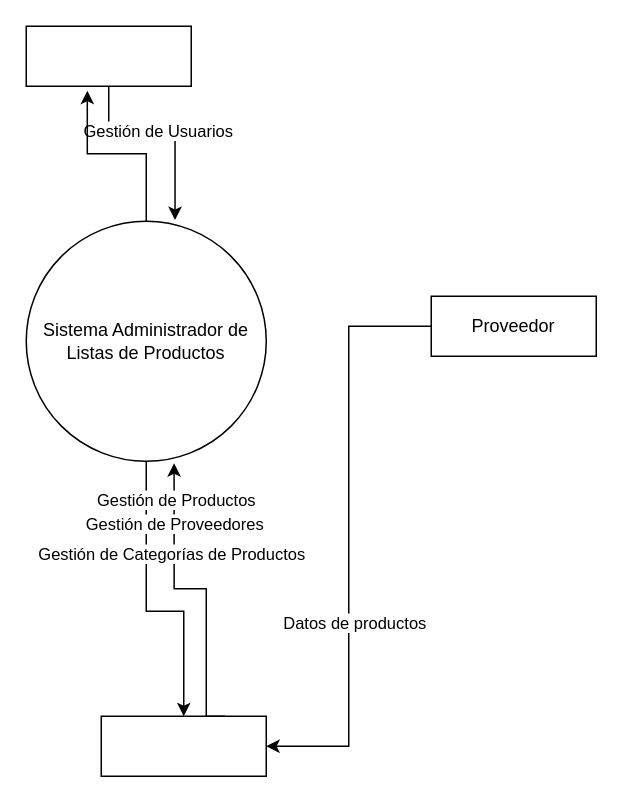
The diagram is 623 pixels wide and 803 high, and some of its shapes have lost their labels. Here are the shapes that lost their labels. From the top down, the centre of each, then its label:
At [108,55]: "Administrador".
At [183,745]: "Vendedor".
